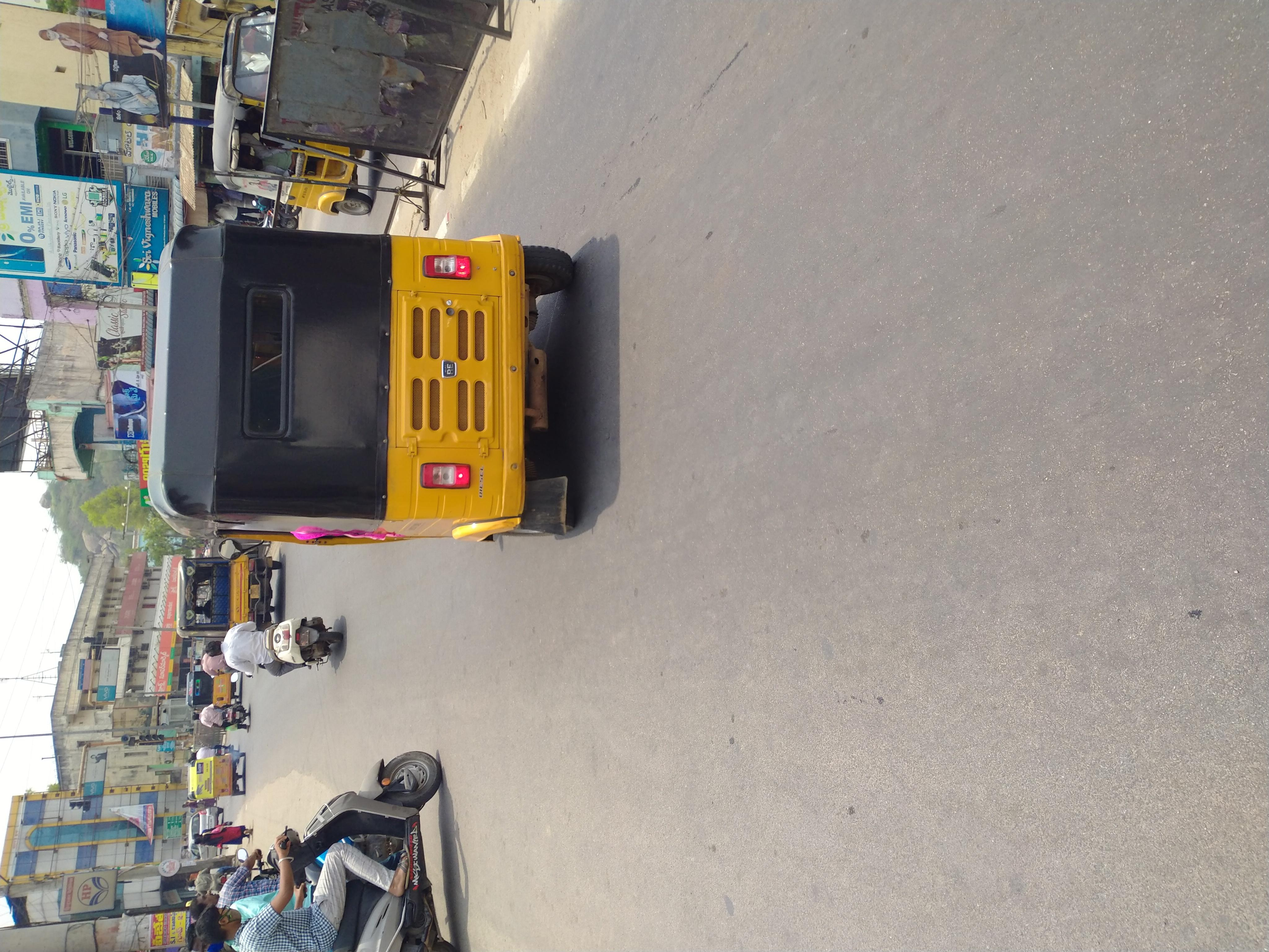Auto: (483, 100, 1008, 445)
